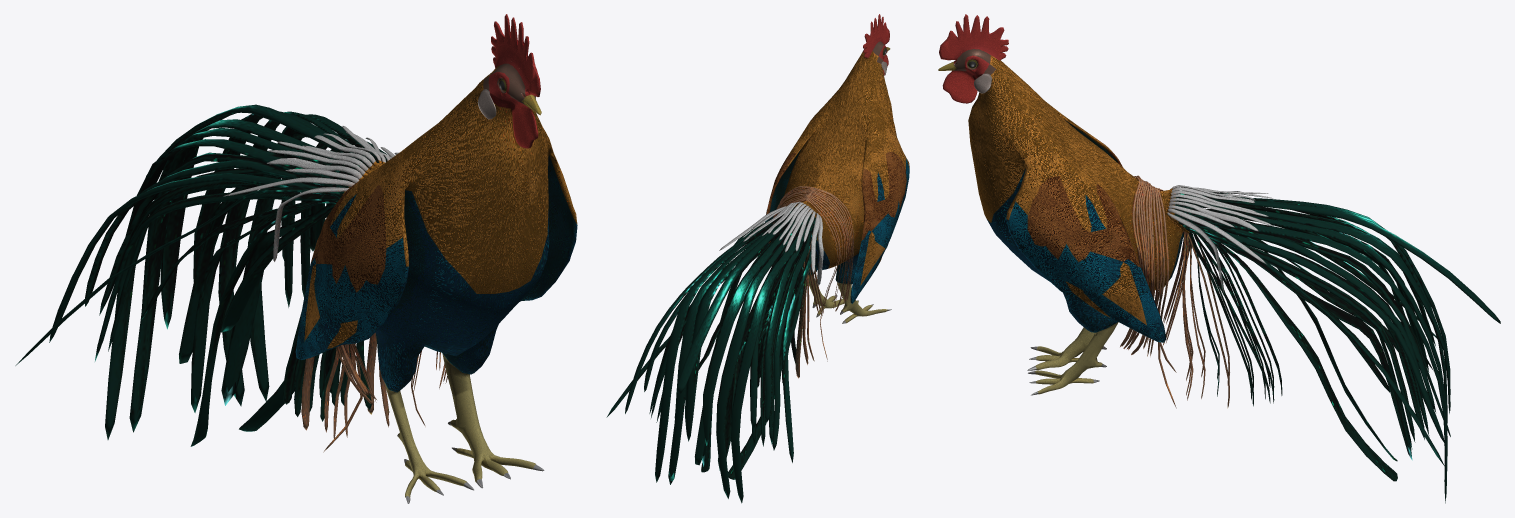
File: rooster.obj
3 views of the same model, side by side, from view 1: azimuth 30°, elevation 25°; view 2: azimuth 150°, elevation 25°; view 3: azimuth 270°, elevation 25° (orthographic). The views are drawn at different scales.
Parts seen in each view (by area): view 1: Group_002; view 2: Group_002; view 3: Group_002.
Boxes of the visible parts, bbox=[...] form: Group_002: bbox=[15, 14, 577, 503]; Group_002: bbox=[606, 14, 909, 503]; Group_002: bbox=[938, 14, 1500, 503].
Bounding box in the file's own units: 54.96 × 97.87 × 108.
3 materials, 3 textured.
